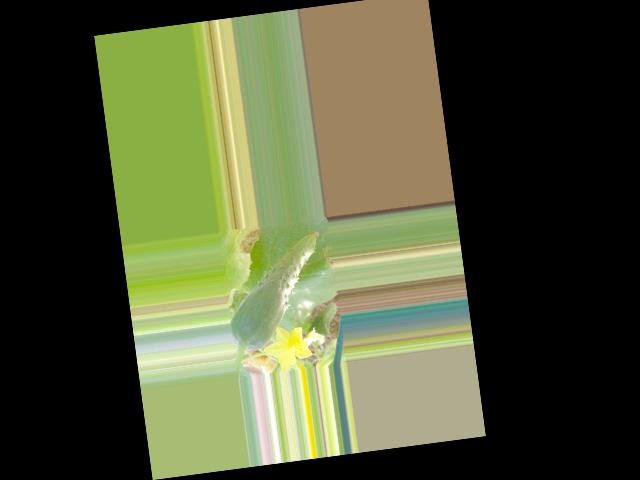cucumber: (219, 230, 333, 353)
